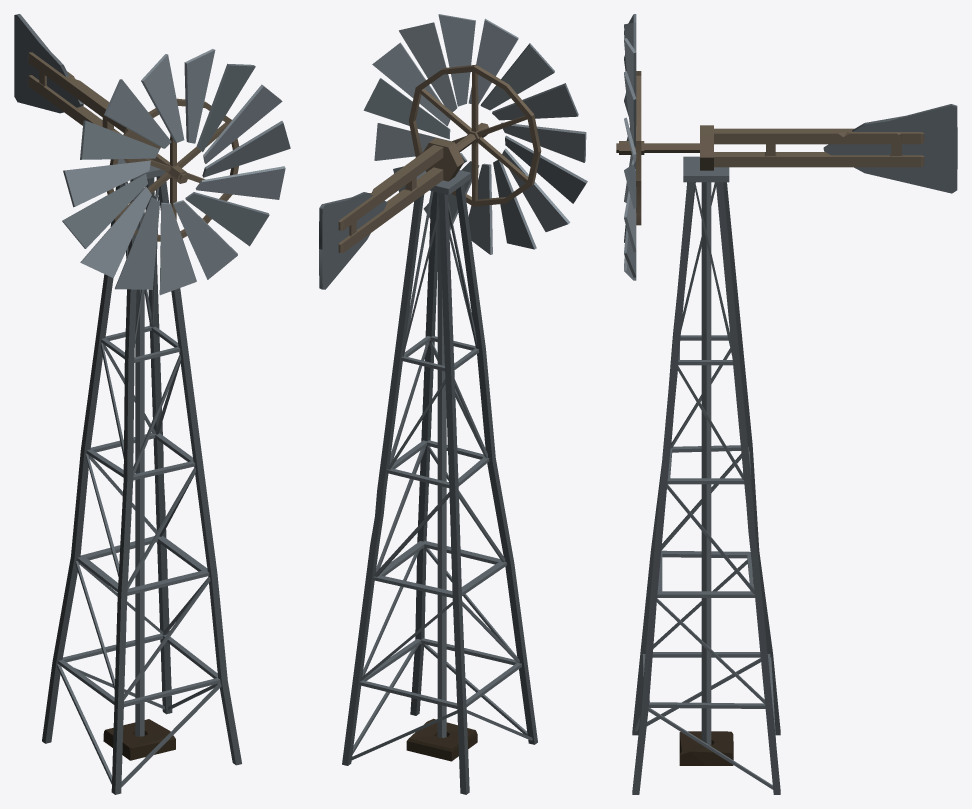
File: sc-windpump.glb
The picture shows the model from 3 angles, left to right: view 1: azimuth 30°, elevation 25°; view 2: azimuth 150°, elevation 25°; view 3: azimuth 270°, elevation 25°; orthographic projection. The views are drawn at different scales.
Parts seen in each view (by area): view 1: SM_Prop_Windmill_01, SM_Prop_Windmill_Blades_01, SM_Prop_Windmill_Top_01; view 2: SM_Prop_Windmill_01, SM_Prop_Windmill_Blades_01, SM_Prop_Windmill_Top_01; view 3: SM_Prop_Windmill_01, SM_Prop_Windmill_Top_01, SM_Prop_Windmill_Blades_01.
Part boxes in pixels (bbox=[...]): SM_Prop_Windmill_01: bbox=[42, 159, 241, 794]; SM_Prop_Windmill_Blades_01: bbox=[62, 49, 290, 295]; SM_Prop_Windmill_Top_01: bbox=[14, 14, 160, 163]; SM_Prop_Windmill_01: bbox=[342, 170, 537, 794]; SM_Prop_Windmill_Blades_01: bbox=[363, 14, 587, 254]; SM_Prop_Windmill_Top_01: bbox=[319, 138, 464, 289]; SM_Prop_Windmill_01: bbox=[632, 156, 780, 794]; SM_Prop_Windmill_Top_01: bbox=[700, 104, 957, 193]; SM_Prop_Windmill_Blades_01: bbox=[616, 14, 699, 280].
Bounding box in the file's own units: 4.92 × 15 × 6.31.
1 material, 1 textured.
